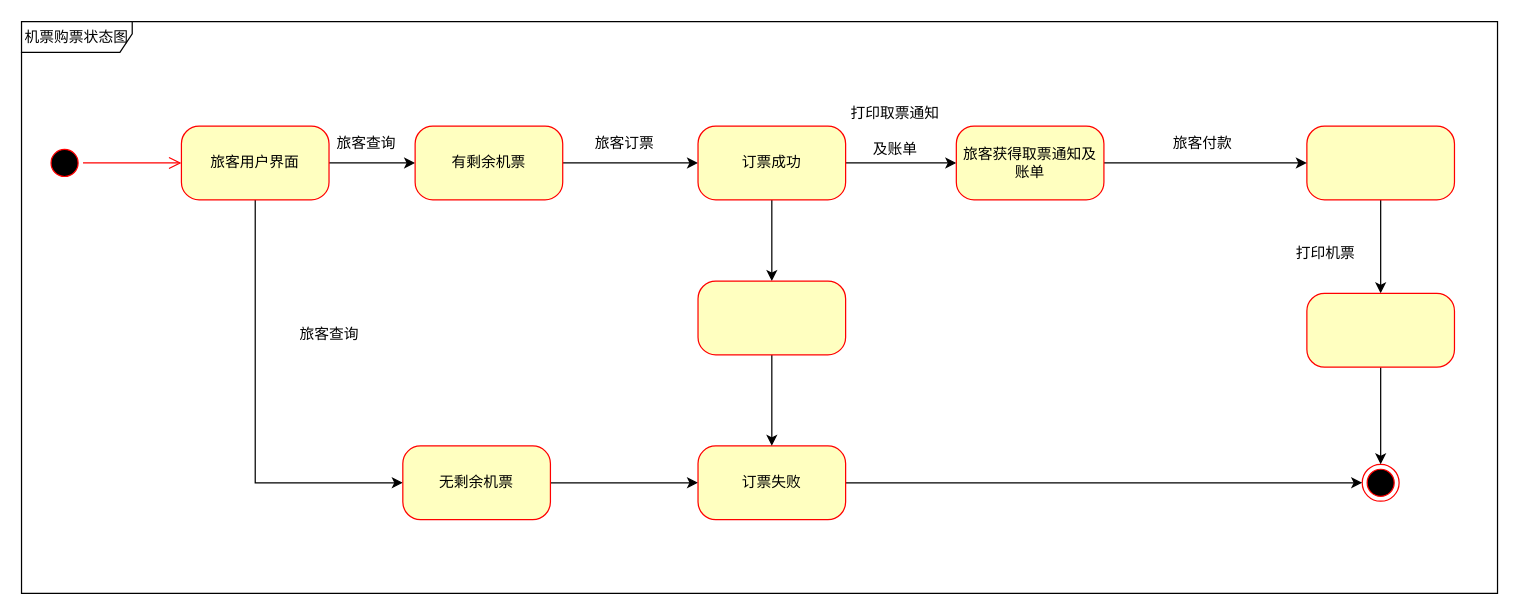
Image size: 1519x615. Some labels were removed from this diagram. The centre of each missing label's shape, as x and y in pixels:
旅客取票: pixel 1380 329
购票完成: pixel 1380 162
退票: pixel 771 317
